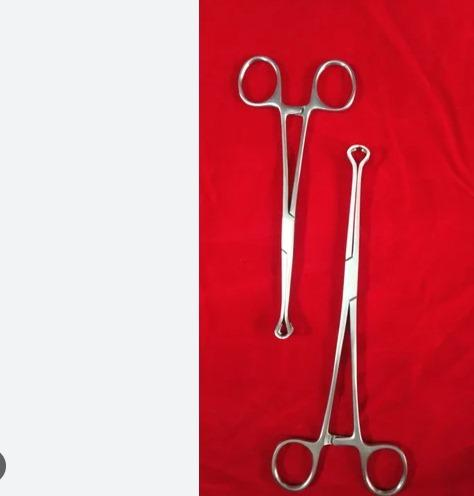Babcock Forceps: (273, 145, 420, 496), (228, 51, 358, 342)
